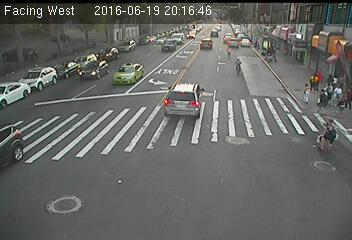neg: (187, 91, 205, 116), (272, 42, 290, 66), (153, 29, 168, 49), (226, 56, 241, 76), (245, 39, 258, 56), (113, 24, 124, 39), (48, 37, 58, 51), (223, 33, 233, 46), (247, 22, 256, 33), (81, 25, 89, 36)
pos: (315, 115, 344, 153), (330, 80, 347, 102), (297, 83, 313, 104), (316, 88, 331, 108), (308, 70, 323, 90), (324, 71, 339, 90), (339, 93, 351, 114), (32, 46, 41, 58), (92, 40, 101, 51)
